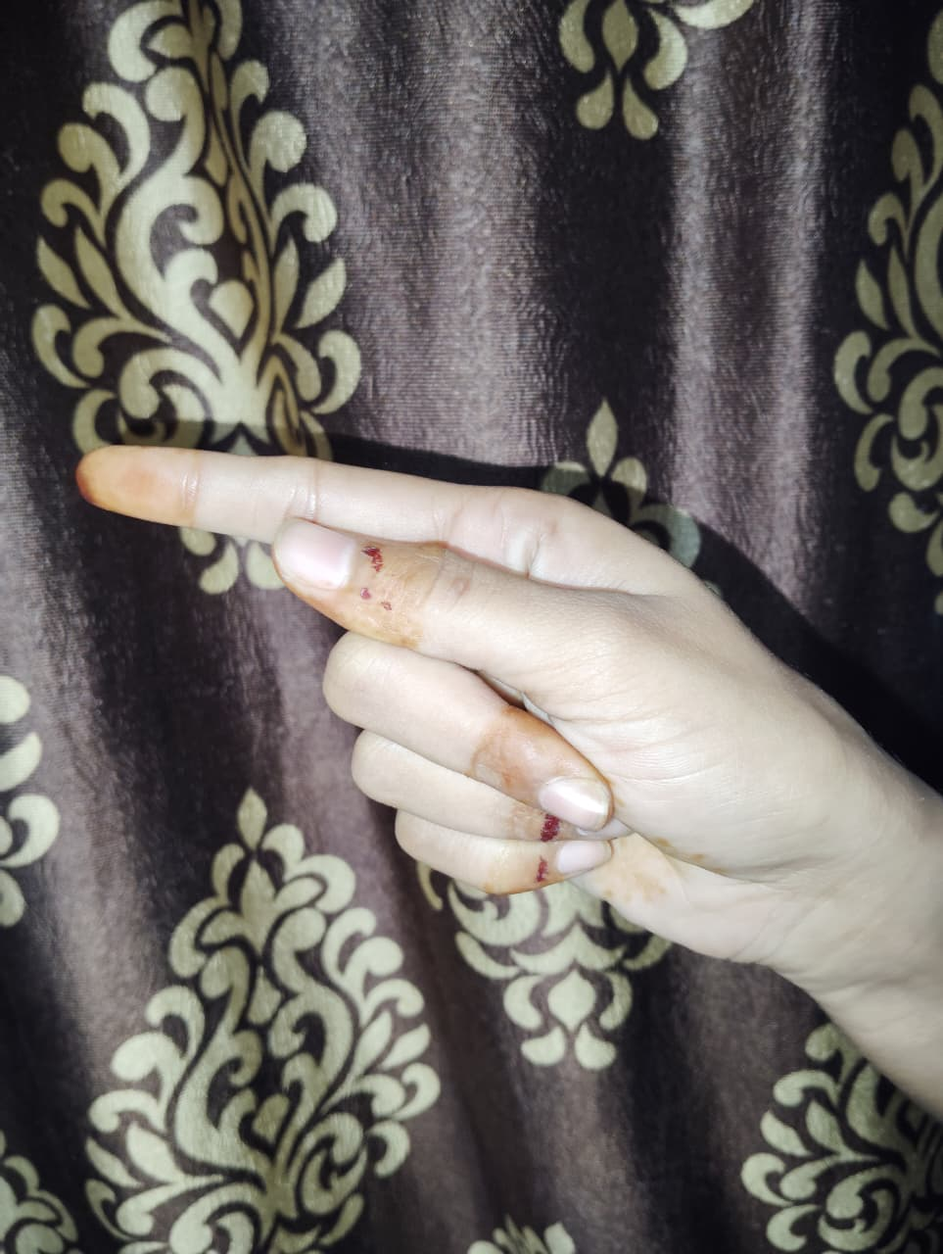G: (71, 446, 836, 967)
